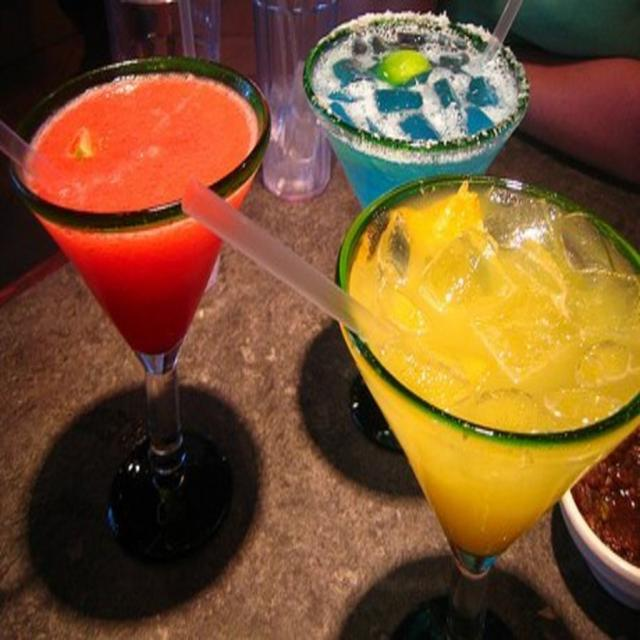Juice: (349, 167, 639, 591), (6, 44, 273, 376), (301, 11, 532, 211)
